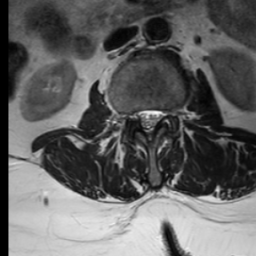CCS_normal: (143, 99, 152, 148)
LFS_stenosis: (162, 101, 172, 128)
LLS_normal: (152, 100, 162, 134)
RFS_stenosis: (125, 100, 135, 131)
RLS_stenosis: (135, 101, 143, 131)
